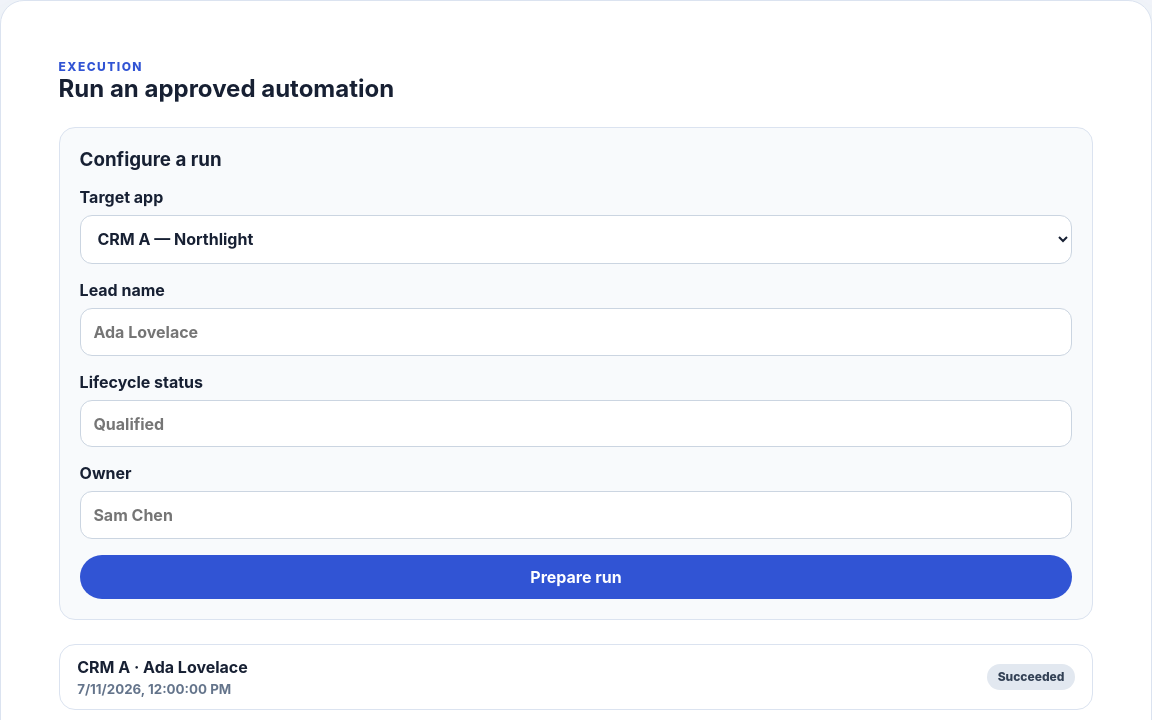
Test: ExecutionPage result surface › shows the zero-shot headline for a succeeded crm_b run
The width and height of the screenshot is (1152, 720).
Click the button "CRM A · Ada Lovelace 7/11/2026, 12:00:00 PM succeeded" at (104, 667), box top-left (59, 644), bottom-right (1093, 710)
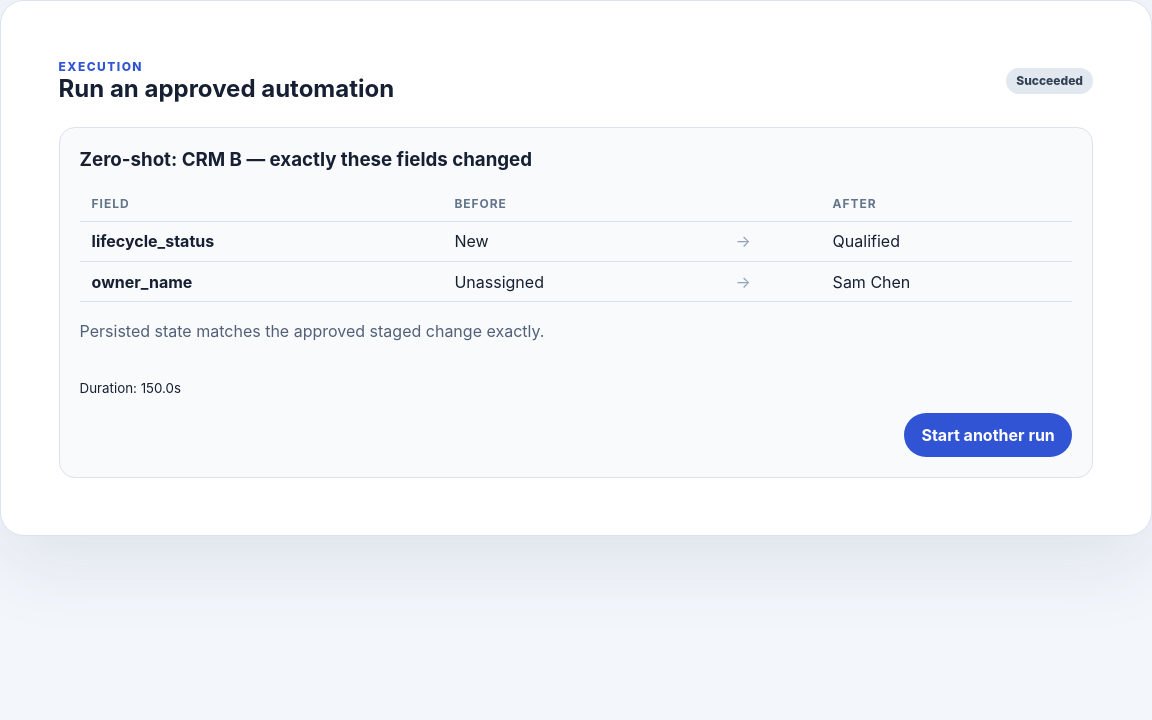
Expected: the heading "Zero-shot: CRM B — exactly these fields changed" is shown, top-left (80, 148), bottom-right (532, 171)
Expected: the text "Persisted state matches the approved staged change exactly." is shown, top-left (80, 321), bottom-right (544, 341)
Expected: the text "Duration: 150.0s" is shown, top-left (80, 380), bottom-right (181, 396)
